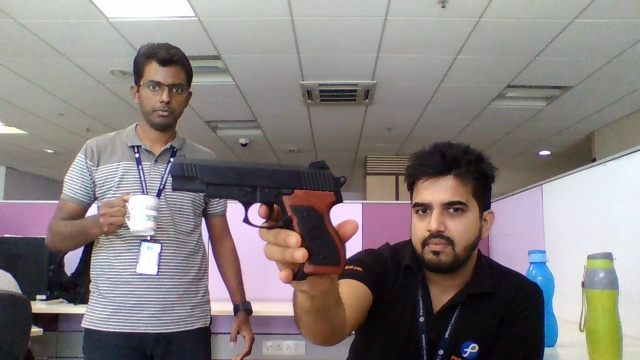gun: (171, 152, 343, 229)
